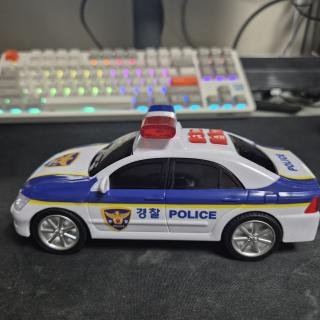Police_car: (11, 107, 320, 261)
